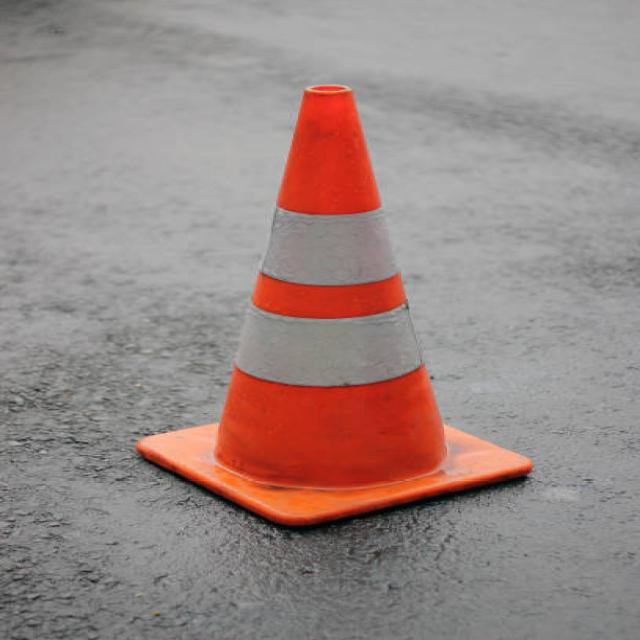Traffic Cone: (84, 61, 575, 556)
